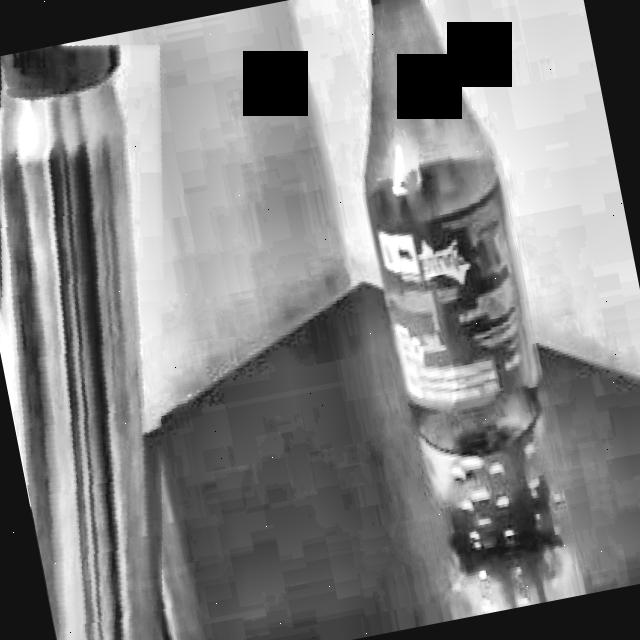bottle: (362, 0, 580, 620), (0, 45, 160, 640)
